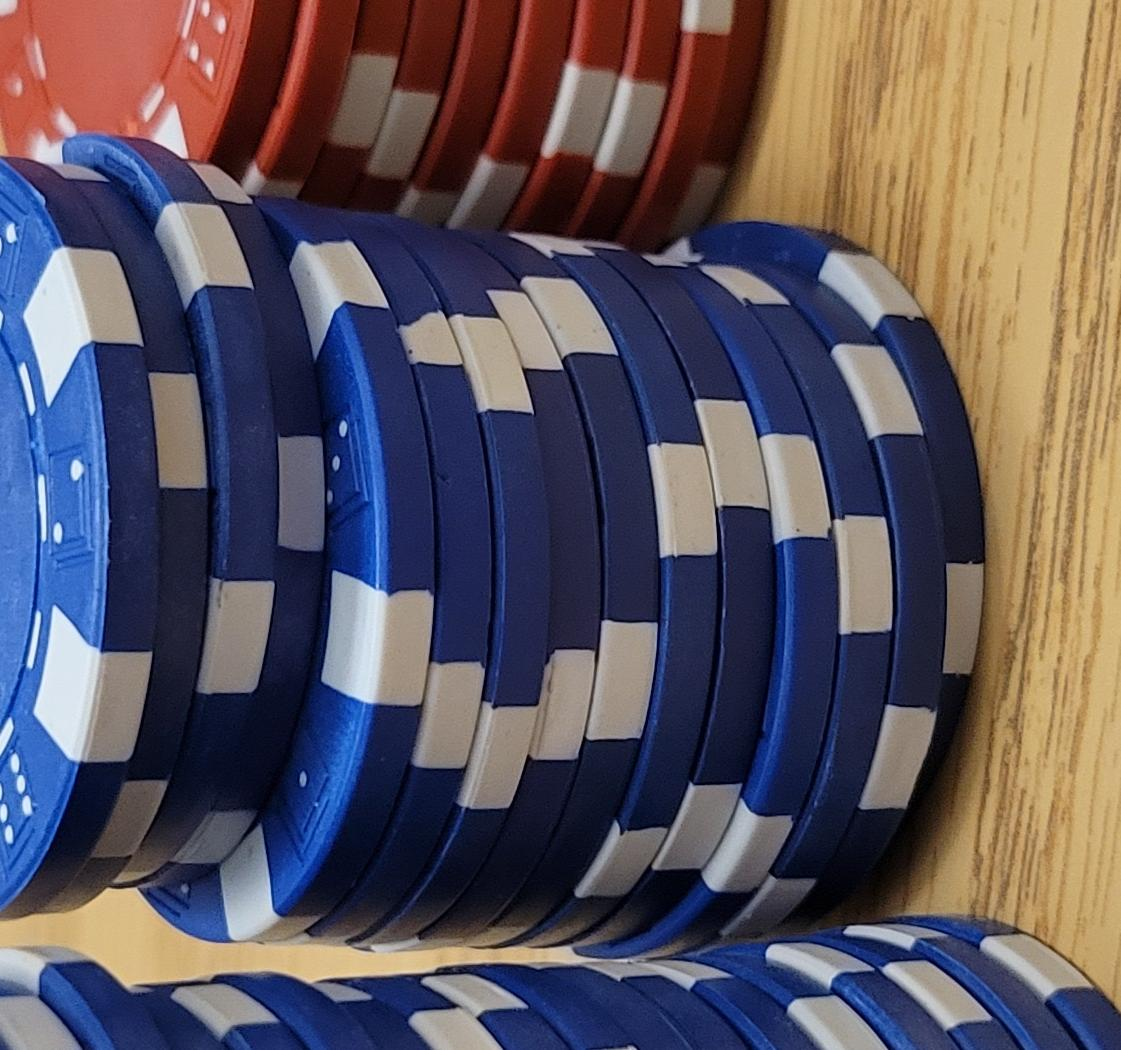Chip: (1, 303, 467, 1050)
